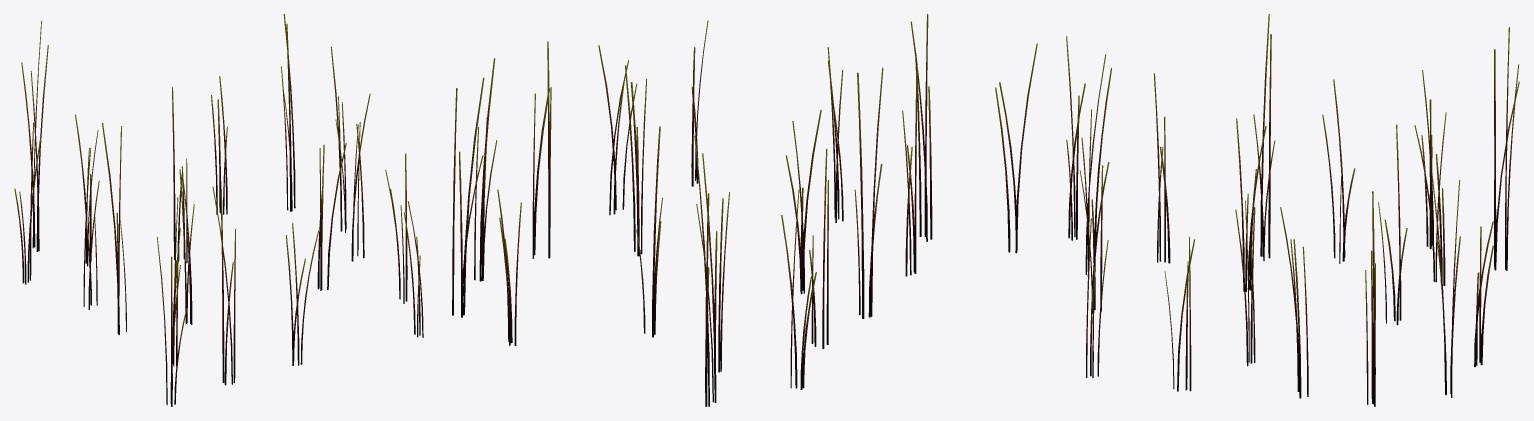
File: patch_bamboo_wall_far.glb
3 renders of one model, left to right at view 1: azimuth 30°, elevation 25°; view 2: azimuth 150°, elevation 25°; view 3: azimuth 270°, elevation 25°, orthographic. The views are drawn at different scales.
Parts seen in each view (by area): view 1: patch_bamboo_wall_far; view 2: patch_bamboo_wall_far; view 3: patch_bamboo_wall_far.
Part boxes in pixels (x1,y1,x2,y2): patch_bamboo_wall_far: [14, 14, 423, 406]; patch_bamboo_wall_far: [452, 14, 1037, 406]; patch_bamboo_wall_far: [1066, 14, 1519, 406].
Bounding box in the file's own units: 14.97 × 9.73 × 16.15.
Materials: 1 (1 with a texture image).
